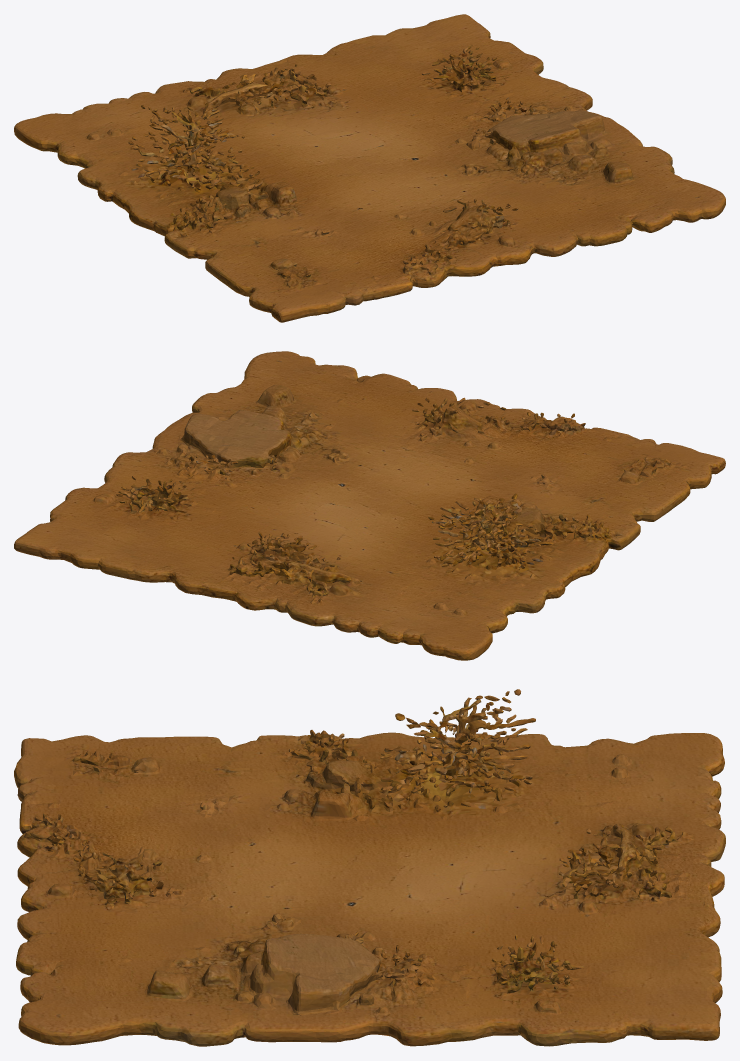
Rendered from desert-ground-2.glb.
3 views of the same model, one above another, from view 1: azimuth 30°, elevation 25°; view 2: azimuth 150°, elevation 25°; view 3: azimuth 270°, elevation 25° (orthographic). The views are drawn at different scales.
Parts seen in each view (by area): view 1: textured_mesh.obj; view 2: textured_mesh.obj; view 3: textured_mesh.obj.
Part boxes in pixels (x1,y1,x2,y2): textured_mesh.obj: (14,14,725,322); textured_mesh.obj: (14,351,725,660); textured_mesh.obj: (14,689,725,1046).
Bounding box in the file's own units: 1.99 × 0.2986 × 1.99.
1 material, 1 textured.
